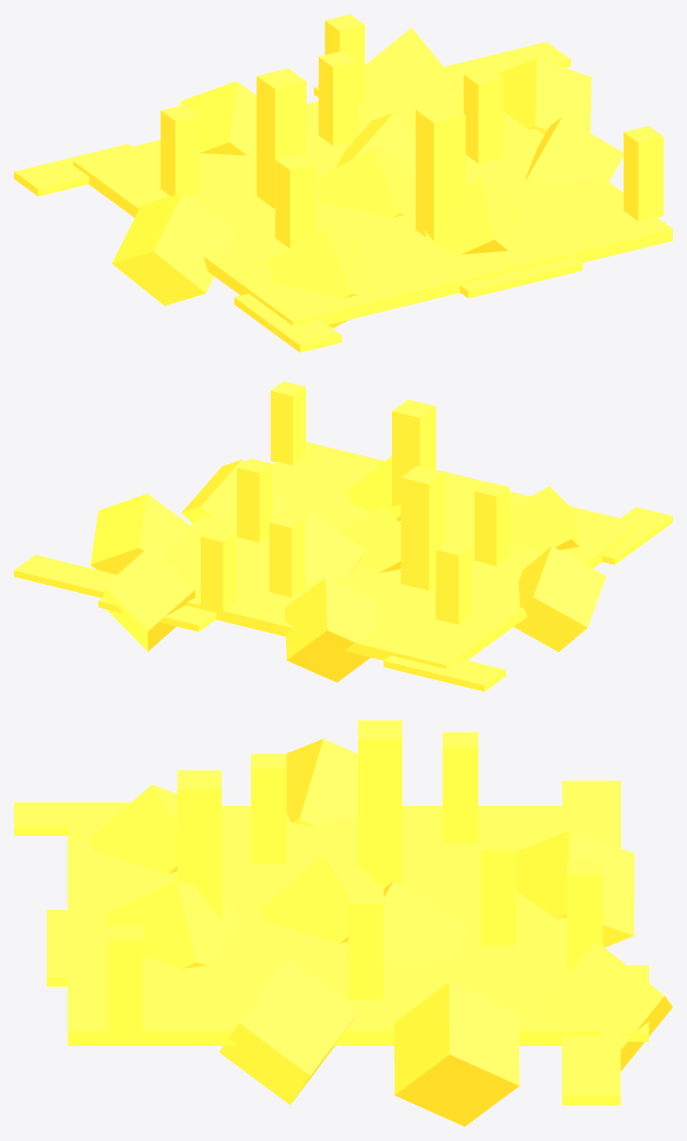
Rendered from spiketile.glb.
3 views of the same model, one above another, from view 1: azimuth 30°, elevation 25°; view 2: azimuth 150°, elevation 25°; view 3: azimuth 270°, elevation 25° (orthographic). The views are drawn at different scales.
Visible parts, largest first — view 1: MeshInstance3D; view 2: MeshInstance3D; view 3: MeshInstance3D.
Boxes of the visible parts, x1,y1,x2,y2 form: MeshInstance3D: (14,14,672,352); MeshInstance3D: (14,381,672,691); MeshInstance3D: (14,720,672,1126).
Size of the model in its own units: 4.28 by 1.38 by 3.7.
